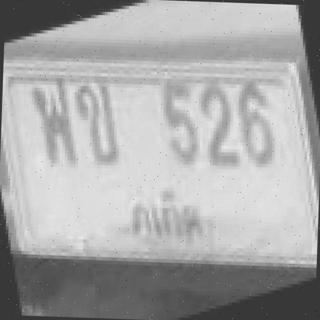A02: (71, 76, 129, 174)
A31: (24, 68, 79, 183)
N02: (193, 75, 244, 184)
N05: (154, 72, 205, 184)
N06: (229, 71, 283, 181)
P48: (121, 184, 214, 246)
